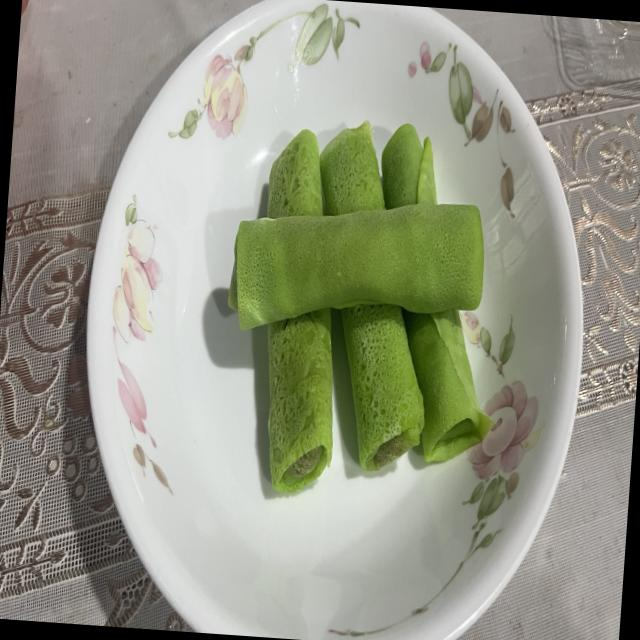Kuih-Ketayap: (234, 202, 484, 330), (340, 303, 424, 471), (403, 309, 491, 462), (267, 309, 332, 492), (319, 120, 385, 216), (267, 130, 323, 219), (381, 123, 436, 209)
